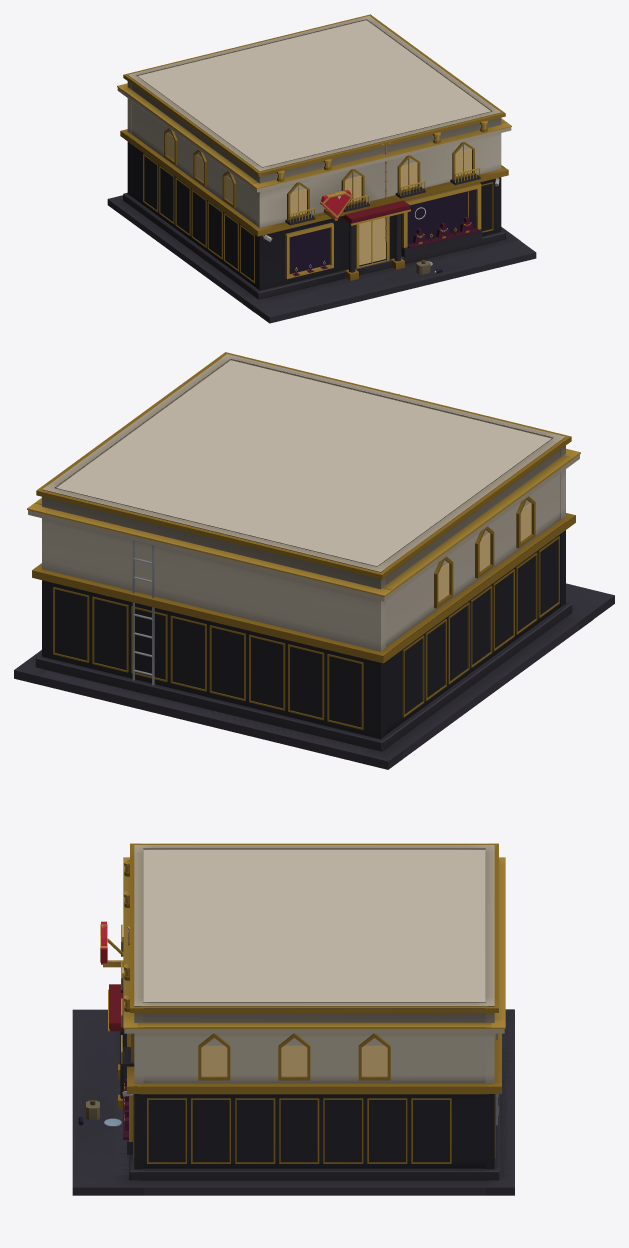
Rendered from RubyThiefFloor.fbx.
3 renders of one model, top to bottom at view 1: azimuth 30°, elevation 25°; view 2: azimuth 150°, elevation 25°; view 3: azimuth 270°, elevation 25°, orthographic. The views are drawn at different scales.
Visible parts, largest first — view 1: JW_S_All, JW_F_Rings, JW_F_Smooth, JW_F_Quiet, JW_F_Glass, JW_F_Props; view 2: JW_F_Rings, JW_S_All, JW_F_Smooth, JW_F_Quiet, JW_F_Glass; view 3: JW_S_All, JW_F_Rings, JW_F_Smooth, JW_F_Quiet, JW_F_Glass.
Boxes of the visible parts, x1=… form: JW_S_All: x1=108, y1=20, x2=490, y2=312; JW_F_Rings: x1=121, y1=14, x2=507, y2=290; JW_F_Smooth: x1=107, y1=14, x2=536, y2=323; JW_F_Quiet: x1=108, y1=192, x2=535, y2=317; JW_F_Glass: x1=166, y1=133, x2=497, y2=273; JW_F_Props: x1=285, y1=190, x2=473, y2=280; JW_F_Rings: x1=32, y1=352, x2=575, y2=739; JW_S_All: x1=16, y1=360, x2=593, y2=769; JW_F_Smooth: x1=14, y1=352, x2=614, y2=769; JW_F_Quiet: x1=14, y1=583, x2=614, y2=760; JW_F_Glass: x1=438, y1=503, x2=531, y2=601; JW_S_All: x1=101, y1=849, x2=514, y2=1195; JW_F_Rings: x1=127, y1=843, x2=501, y2=1170; JW_F_Smooth: x1=72, y1=843, x2=514, y2=1195; JW_F_Quiet: x1=72, y1=1009, x2=514, y2=1187; JW_F_Glass: x1=123, y1=1045, x2=387, y2=1091.
Size of the model in its own units: 60 by 20 by 60.
